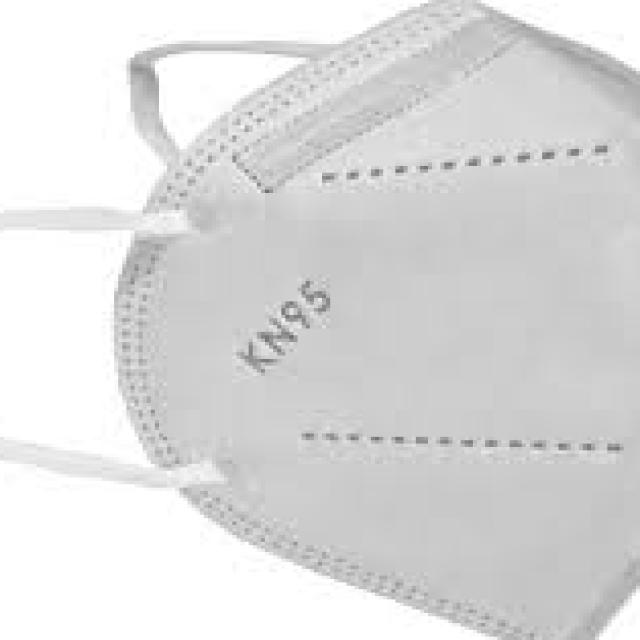organic: (55, 13, 622, 631)
